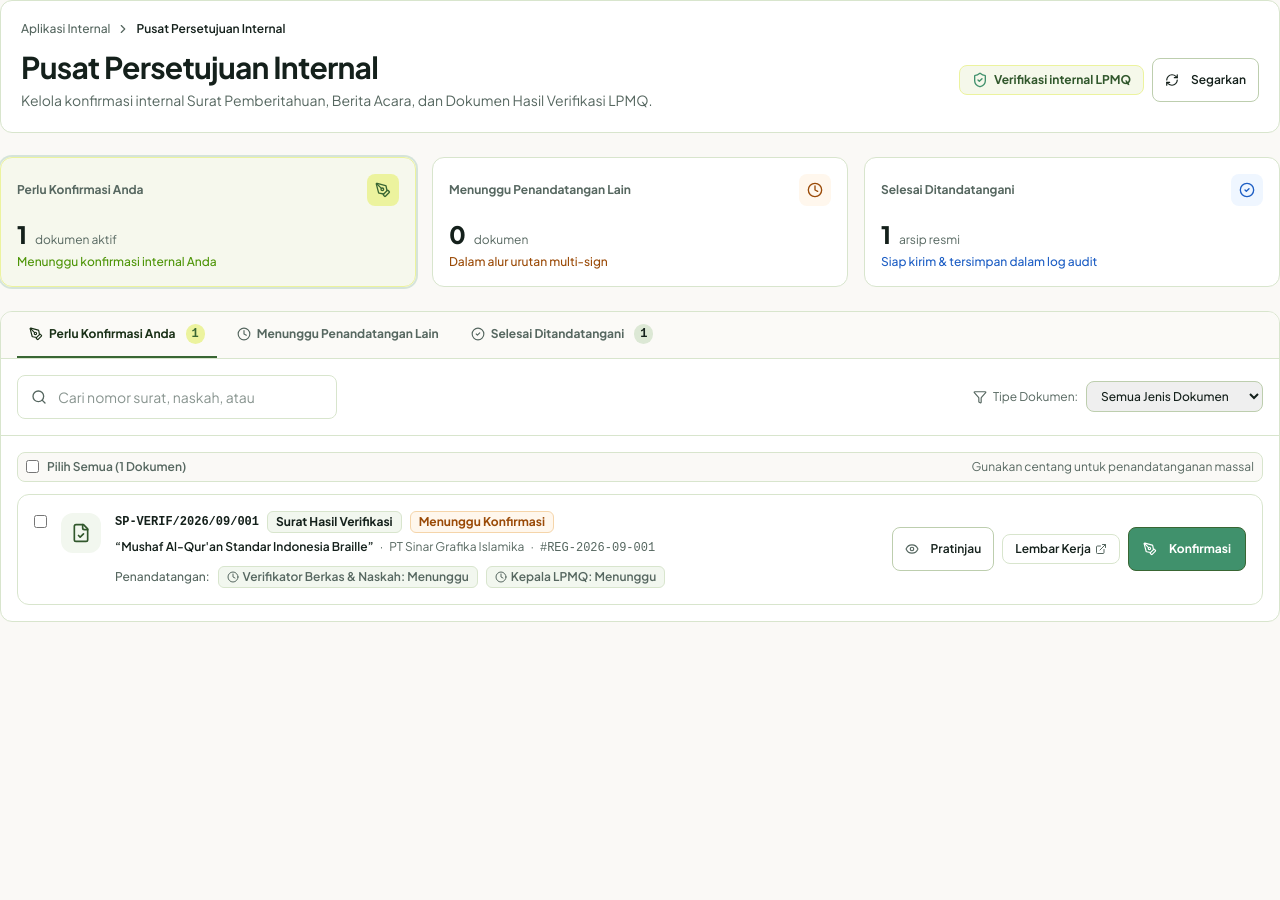
Scenario: SignatureCenterPage Component › memanggil verificationApi.signDocument saat konfirmasi tanda tangan
Step 1. Click the button "Konfirmasi" → point(1187, 549), box [1128,527,1246,571]
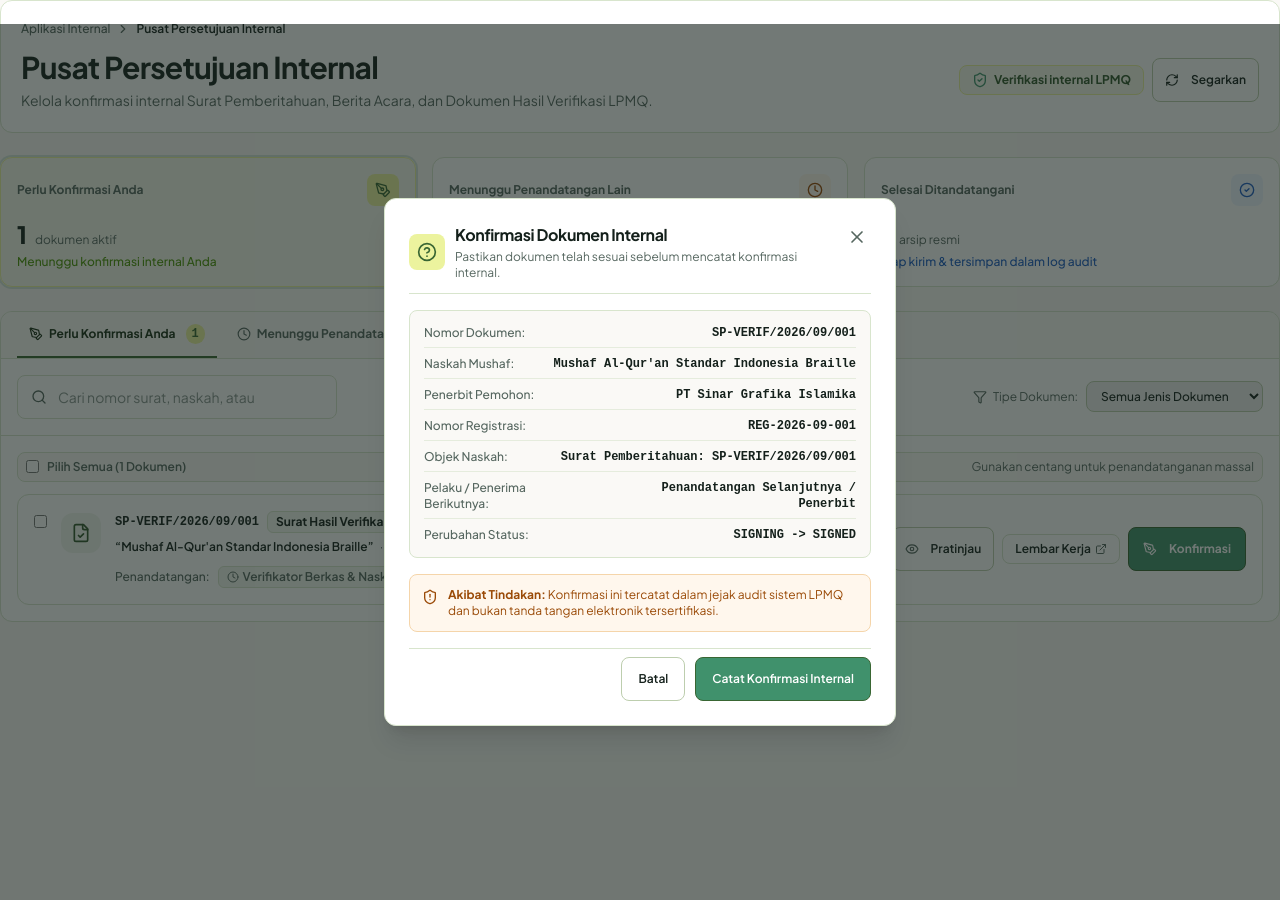
Step 2. Click the button "Catat Konfirmasi Internal" → point(783, 679), box [695,657,871,701]
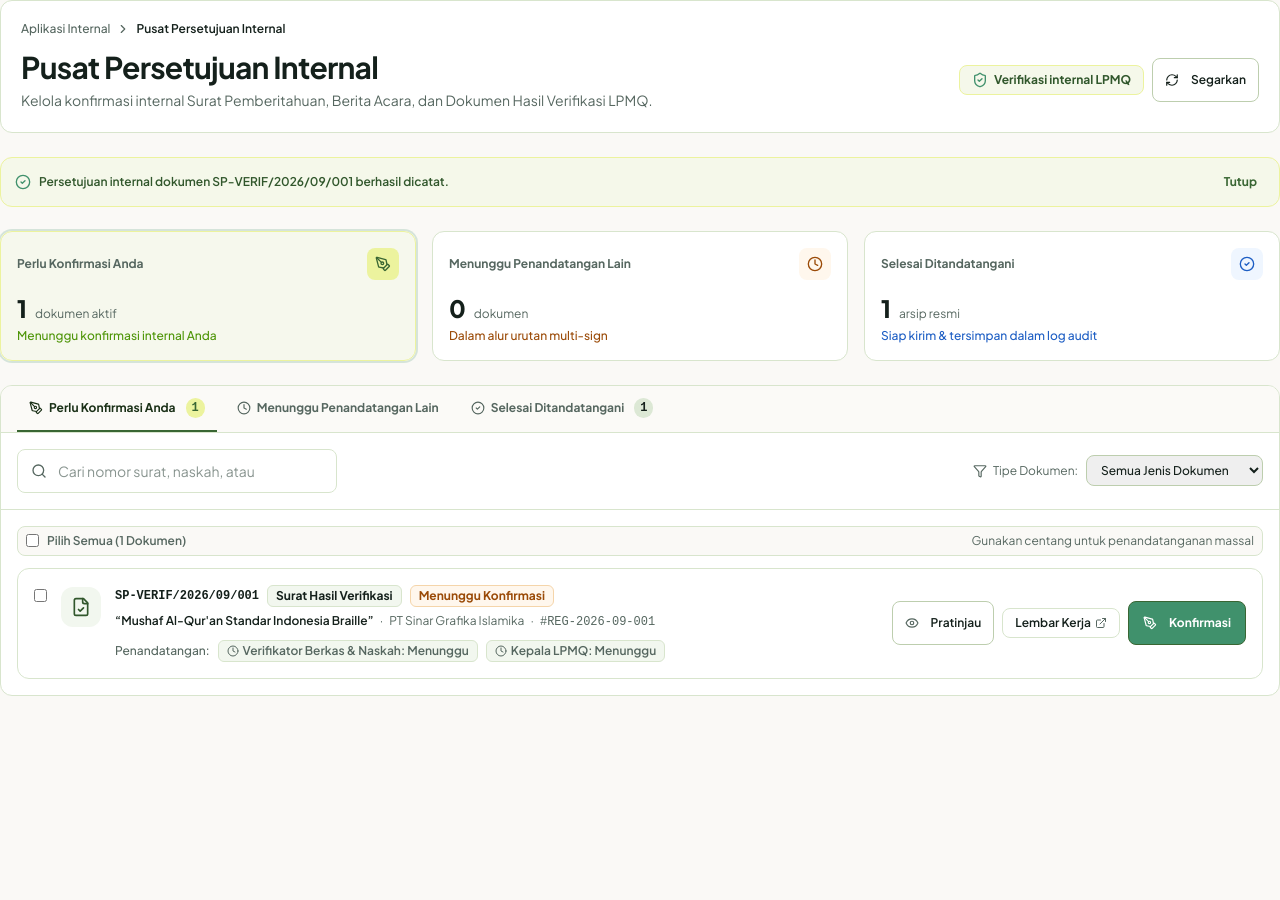
Check: the text "berhasil dicatat" is shown, box [39,174,449,189]
